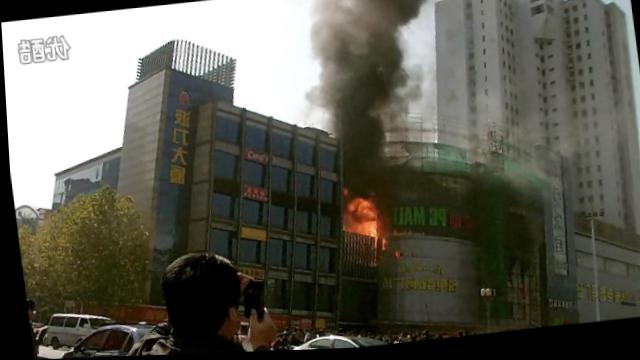fire: (346, 199, 375, 223), (347, 220, 376, 239), (377, 239, 384, 251)
